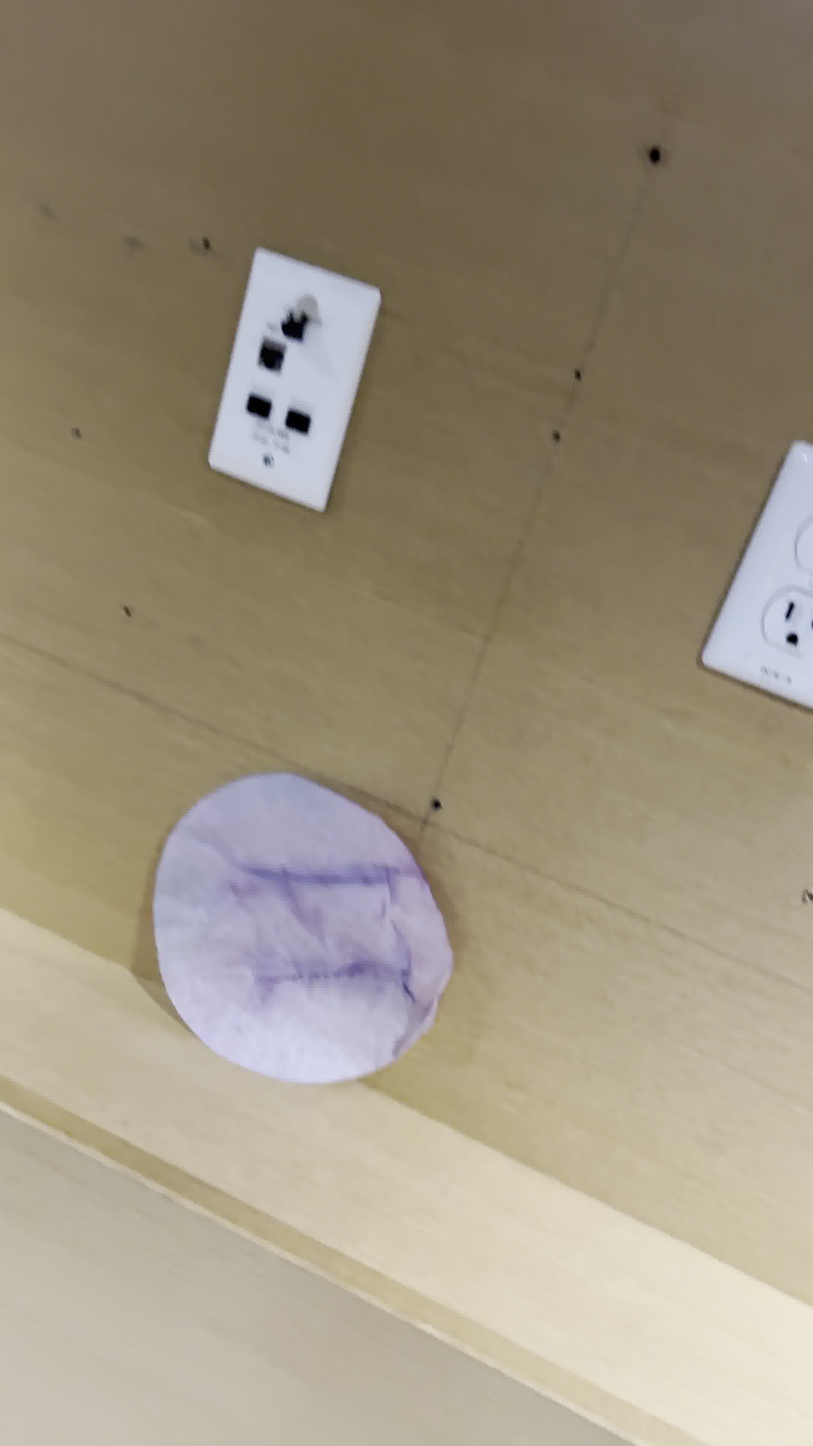Target: (152, 775, 453, 1085)
